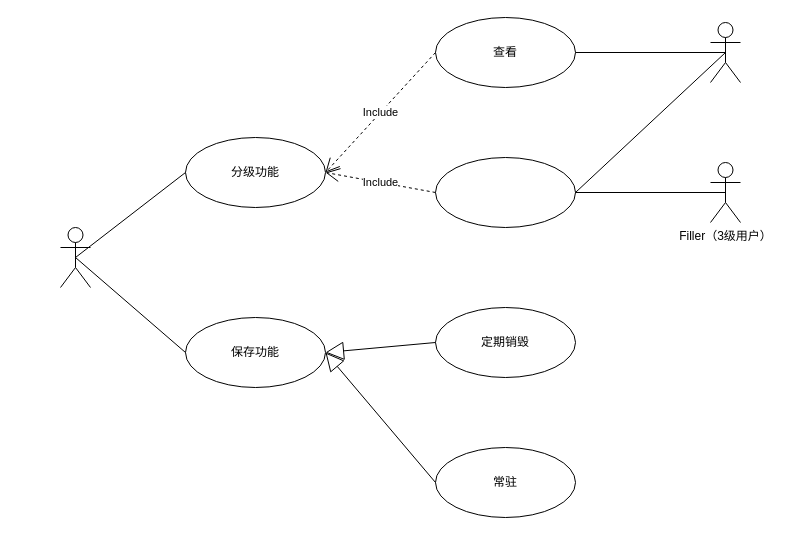
This 794x535 diagram has some shape labels left out. Each missing label, with the centre of its shape:
Publisher（1级用户）: the point at 75,257
Viewer（2级用户）: the point at 725,52
填写: the point at 505,192
